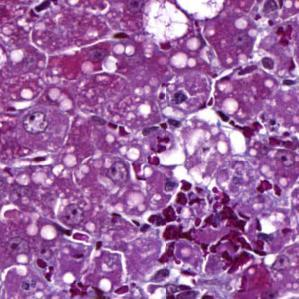ballooning: (141, 3, 190, 46)
